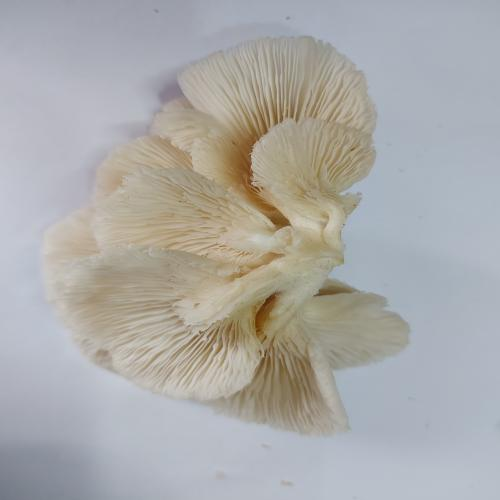Oyster Mushroom: (42, 34, 412, 437)
